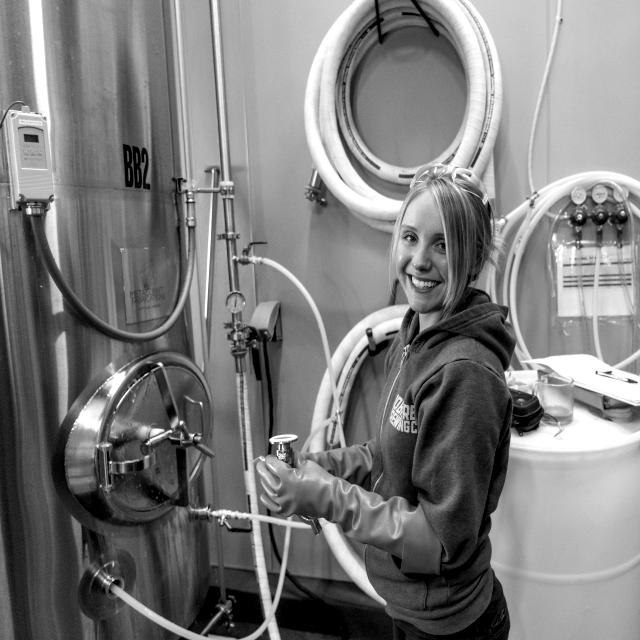No-Vest: (362, 322, 518, 626)
